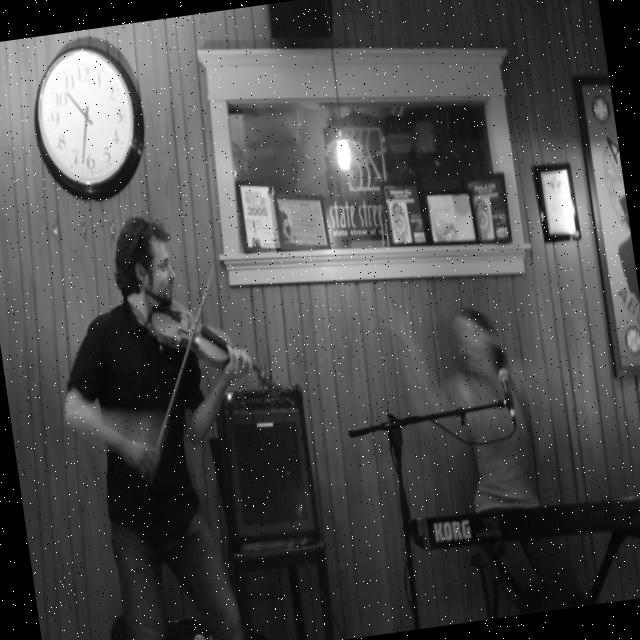violin: (146, 282, 285, 412)
